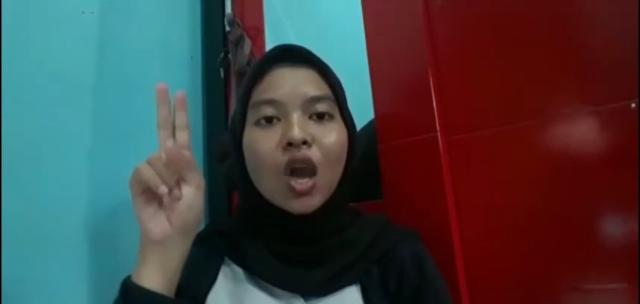U: (126, 82, 208, 240)
